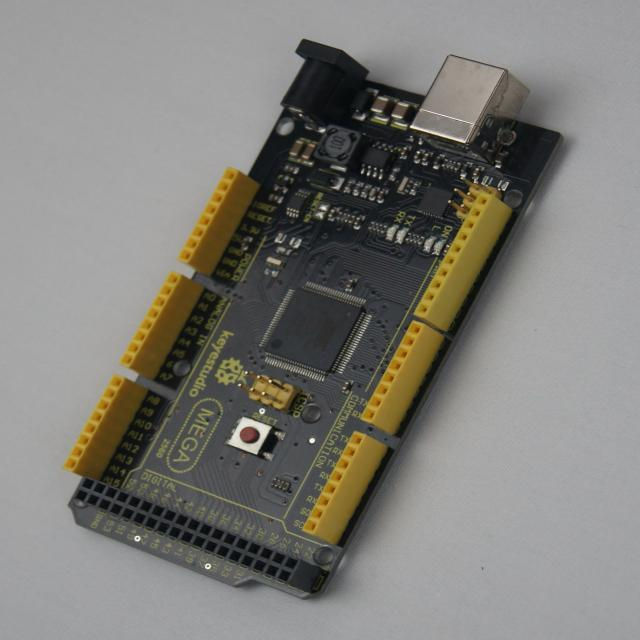Arduino Mega 2560 -Yellow-: (66, 41, 560, 596)
